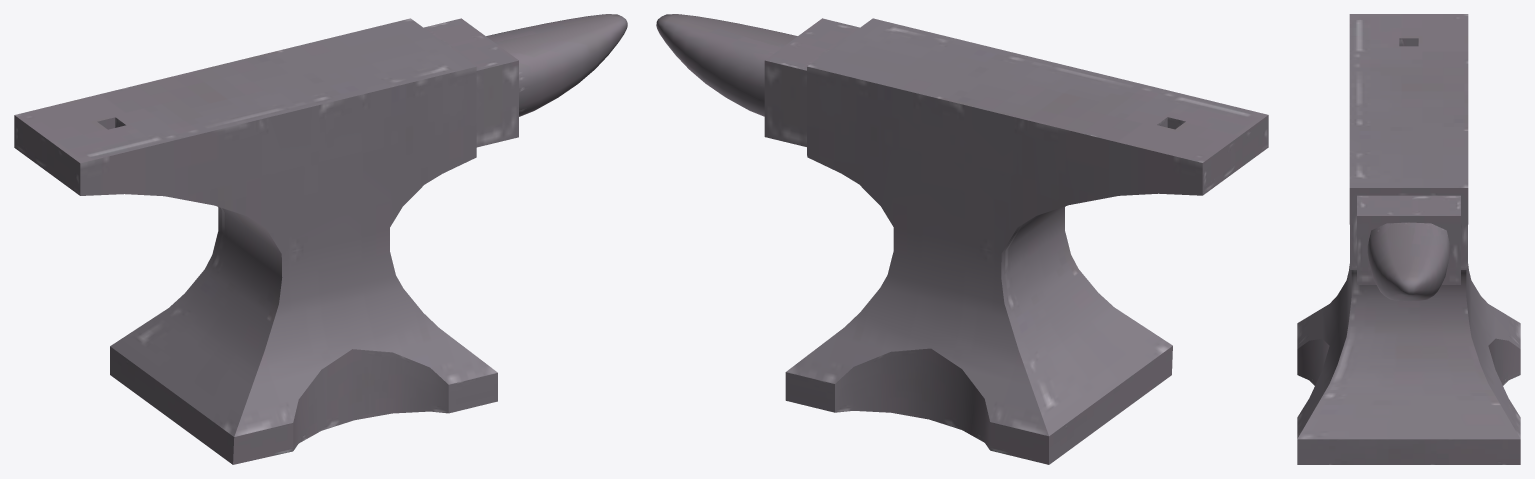
File: anvil.glb
The picture shows the model from 3 angles, left to right: view 1: azimuth 30°, elevation 25°; view 2: azimuth 150°, elevation 25°; view 3: azimuth 270°, elevation 25°; orthographic projection. The views are drawn at different scales.
Visible parts, largest first — view 1: Anvil; view 2: Anvil; view 3: Anvil.
Part boxes in pixels (box(x1,y1,x2,y2)): Anvil: box(14, 14, 627, 464); Anvil: box(656, 14, 1268, 464); Anvil: box(1297, 14, 1520, 464).
Size of the model in its own units: 1.08 by 0.556 by 0.4015.
Materials: 1 (1 with a texture image).
